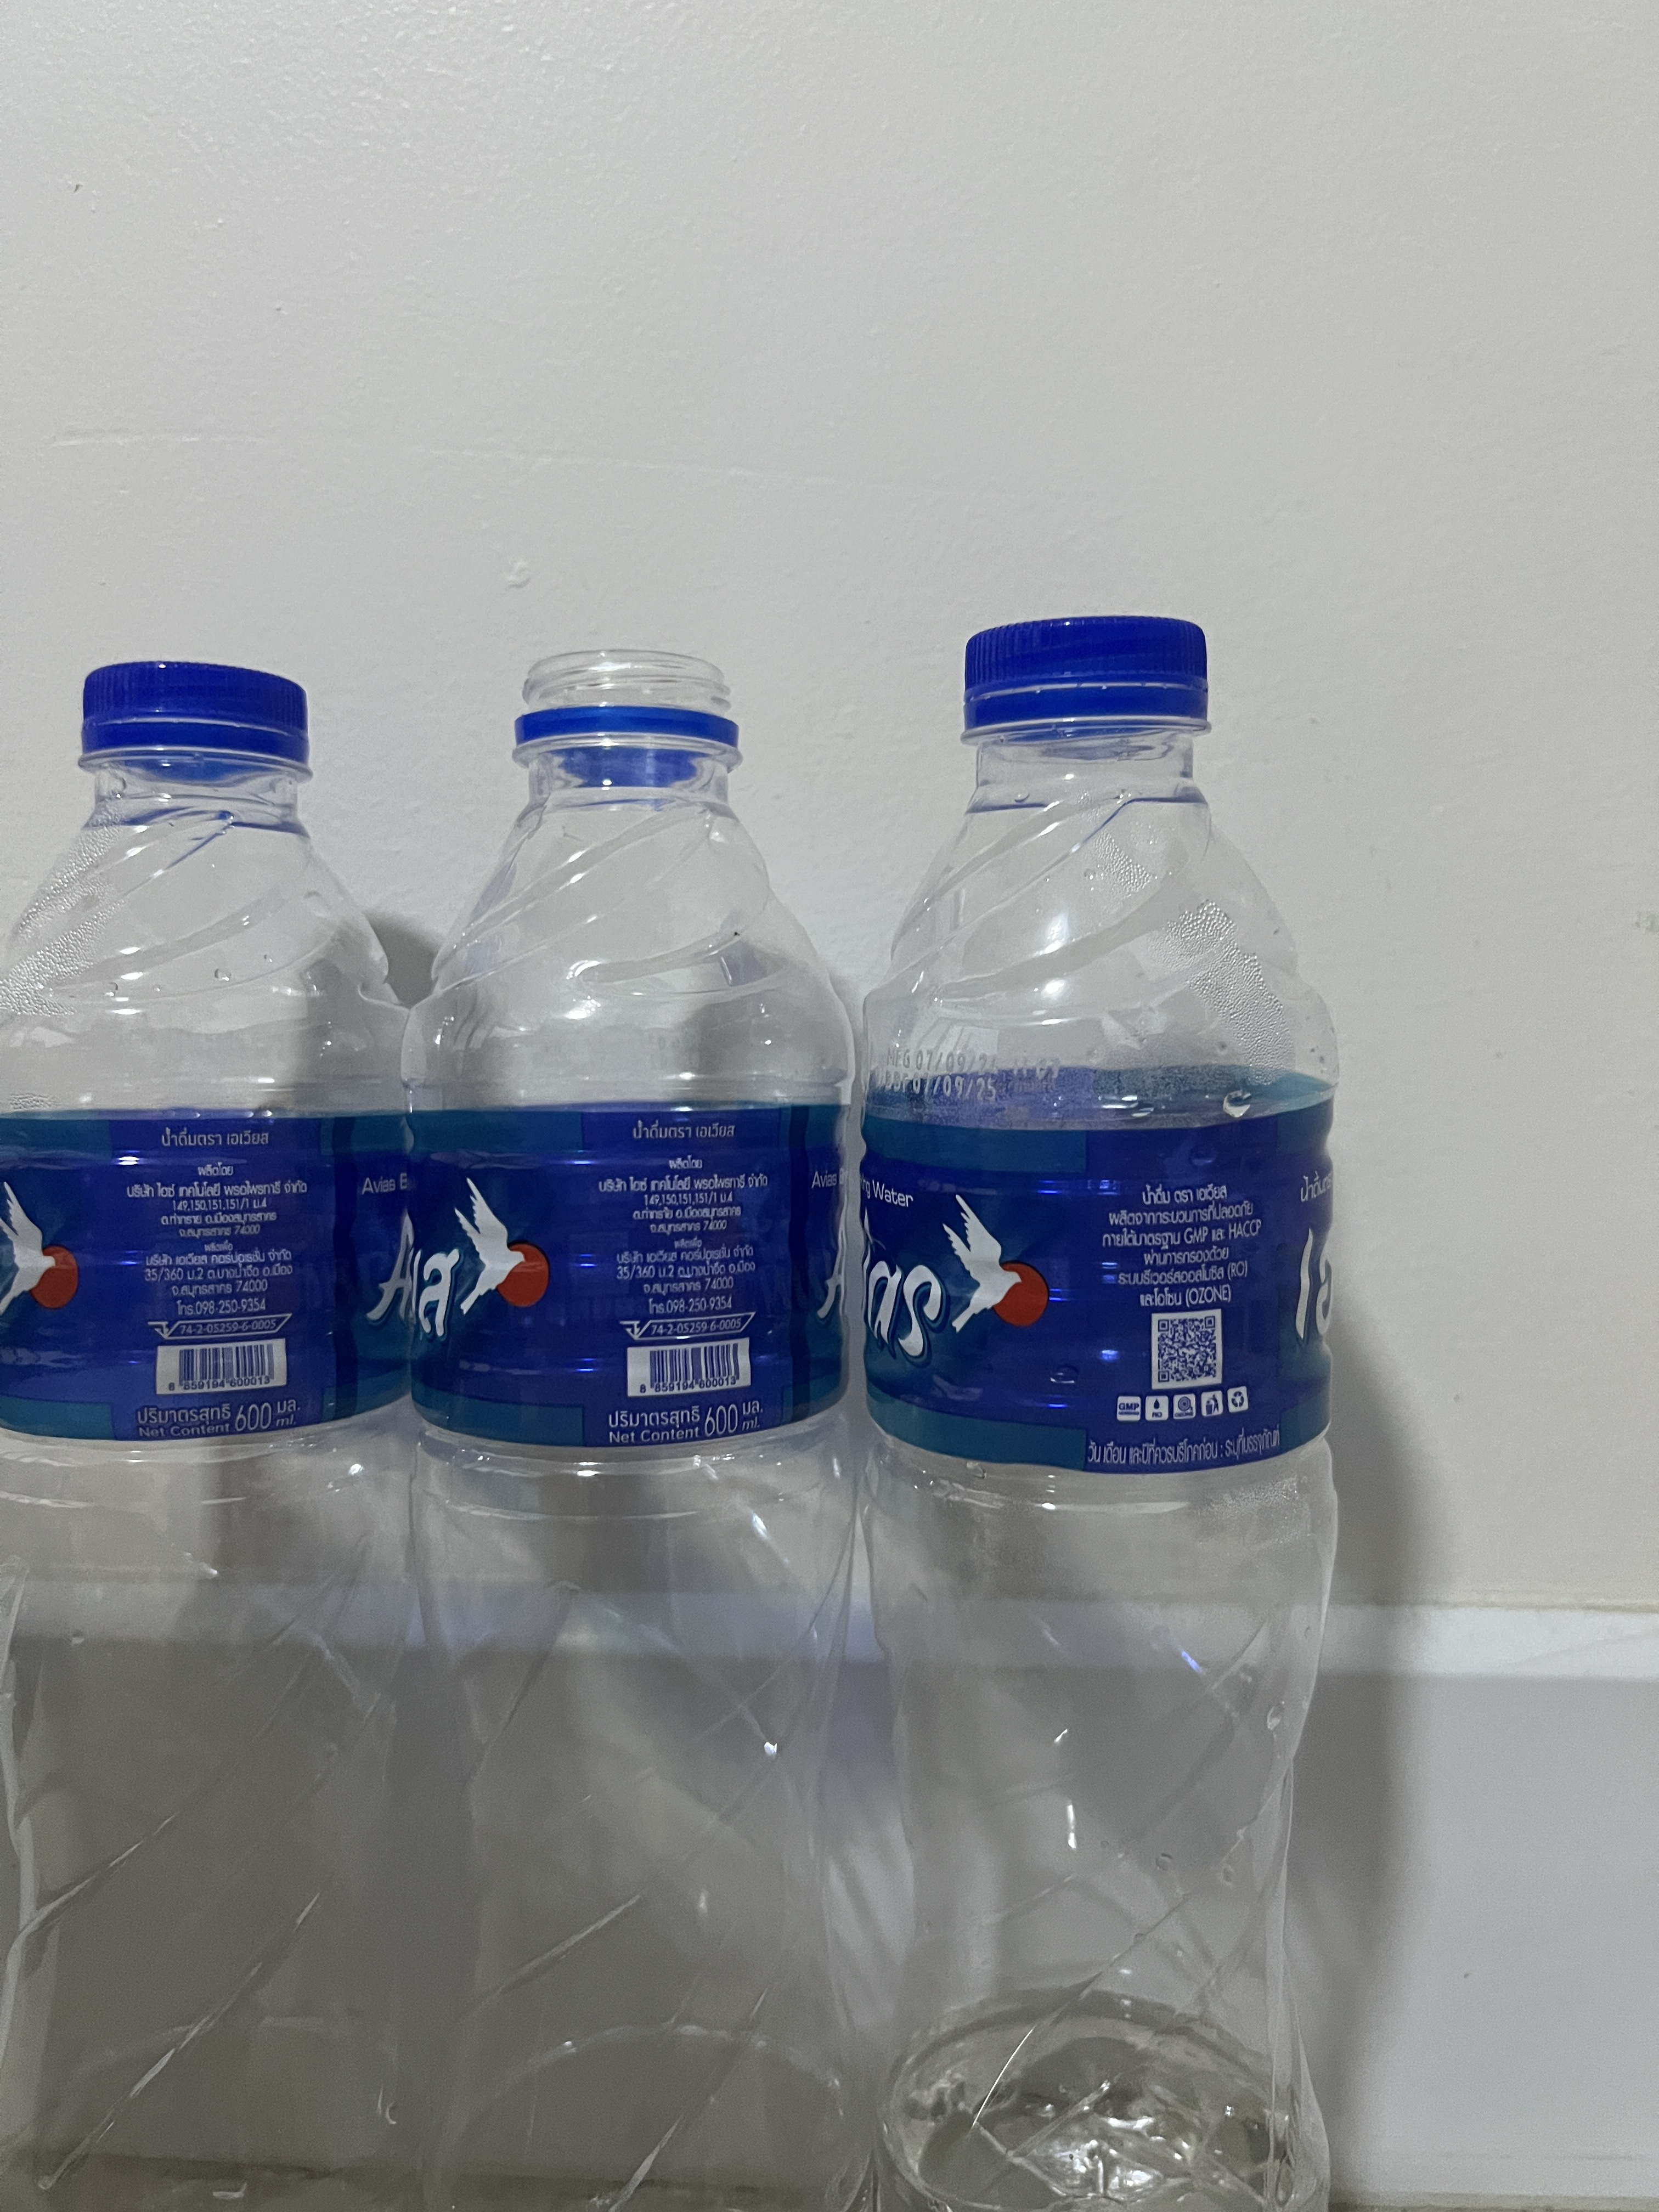plastic_bottle: (819, 543, 1405, 2212), (385, 578, 871, 2212), (3, 625, 416, 2212)
